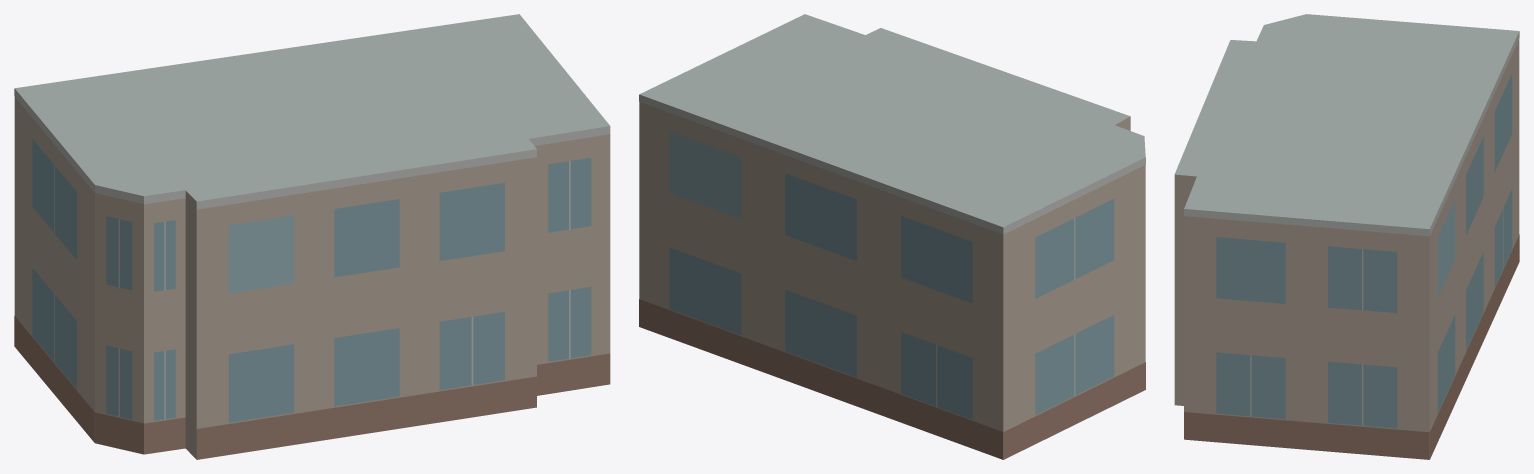
File: survey-upis-32729230.glb
3 renders of one model, left to right at view 1: azimuth 30°, elevation 25°; view 2: azimuth 150°, elevation 25°; view 3: azimuth 270°, elevation 25°, orthographic. The views are drawn at different scales.
Visible parts, largest first — view 1: survey-upis-32729230.tmp; view 2: survey-upis-32729230.tmp; view 3: survey-upis-32729230.tmp.
Boxes of the visible parts, left/top/right/bottom form: survey-upis-32729230.tmp: left=14, top=14, right=610, bottom=459; survey-upis-32729230.tmp: left=639, top=14, right=1145, bottom=459; survey-upis-32729230.tmp: left=1174, top=14, right=1519, bottom=459.
Bounding box in the file's own units: 15.71 × 7.85 × 10.65.
